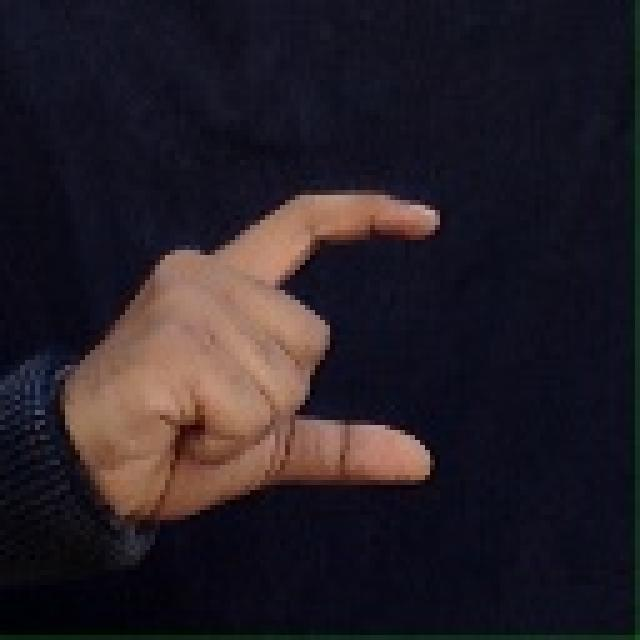c: (2, 174, 453, 602)
